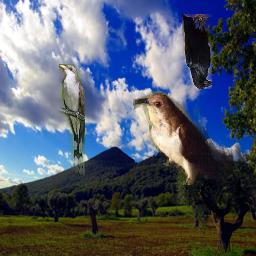Crow: (182, 15, 212, 90)
Cuckoo: (133, 91, 233, 185), (59, 64, 85, 176)
